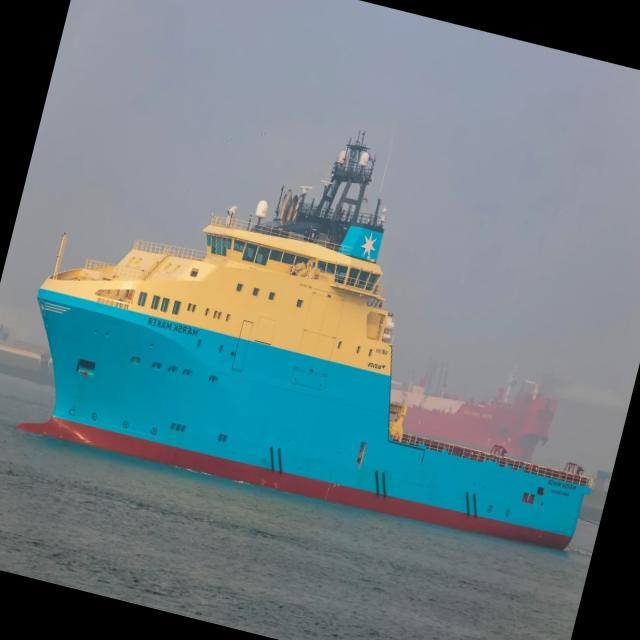Offshore: (19, 133, 588, 549)
